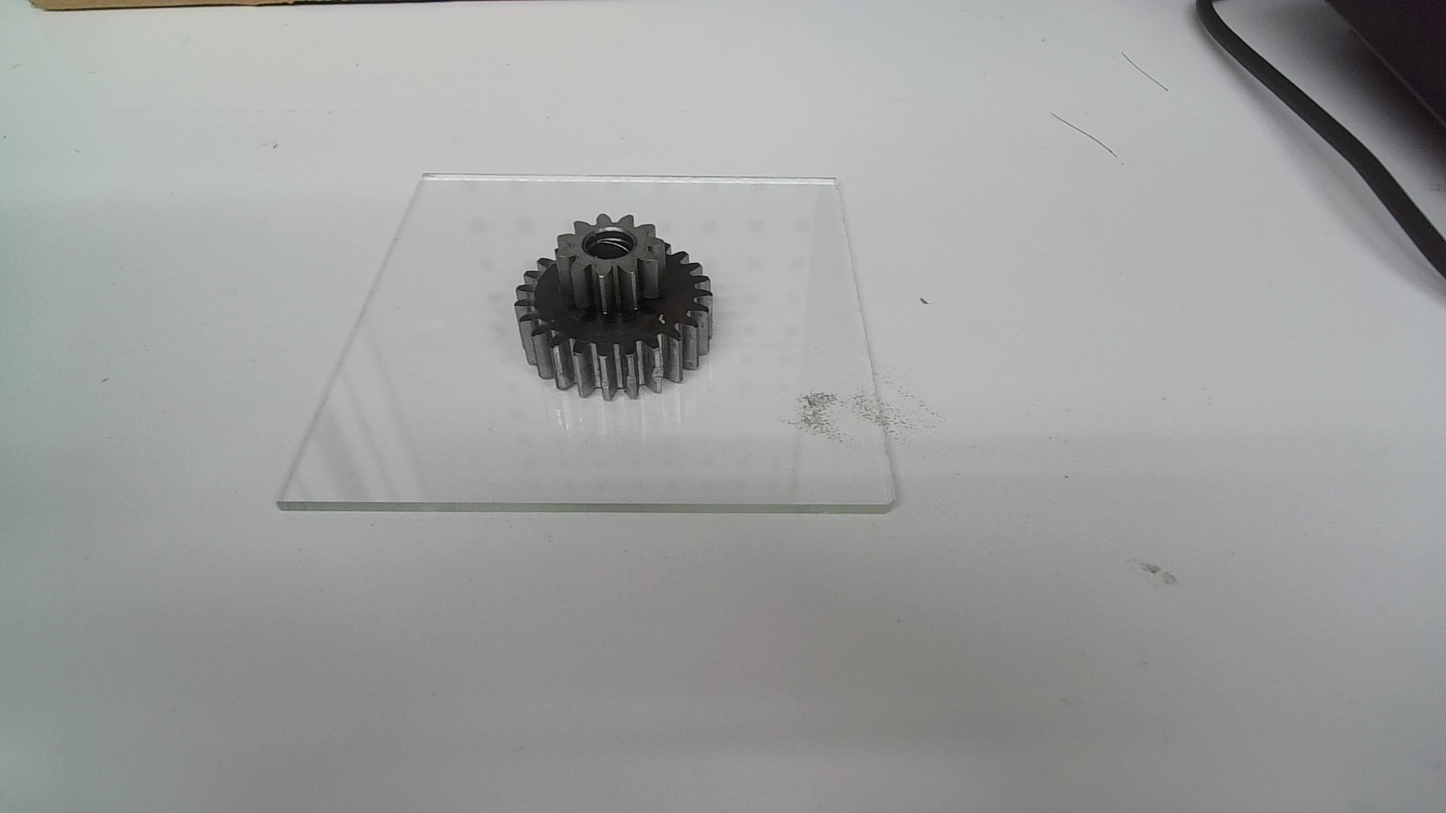gear: (512, 211, 715, 401)
